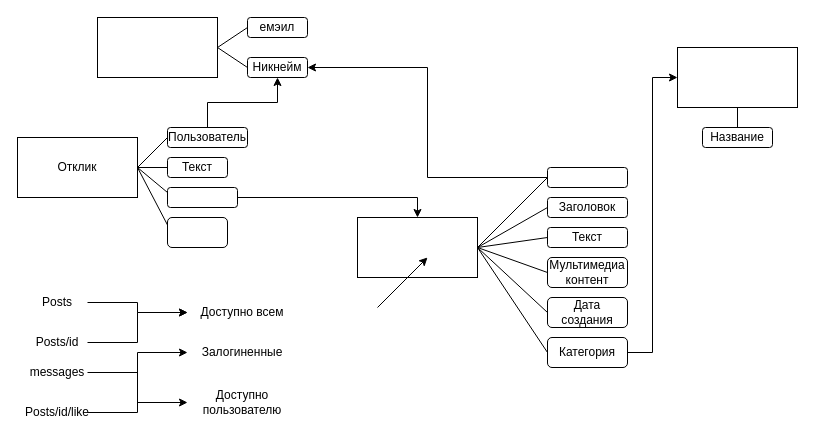
Some shapes in this 815 by 445 pixel diagram are drawn without their labels. The shapes that lost their labels are listed below. From the top down, each one's centre as x and y in pixels, then its label:
At (157,47): "Пользователи".
At (737,77): "Категории".
At (202,197): "Объявление".
At (587,177): "Автор".
At (197,232): "Дата отклика".
At (417,247): "Объявления".
